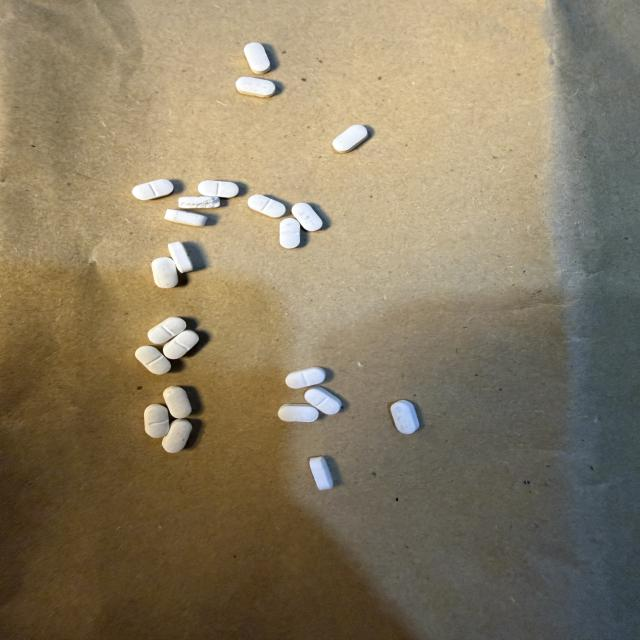pill: (163, 330, 199, 360), (148, 317, 186, 344), (135, 346, 171, 374), (162, 419, 191, 453), (305, 387, 341, 414), (391, 400, 419, 434), (333, 125, 368, 152), (163, 386, 191, 418), (132, 179, 173, 200), (144, 404, 169, 438), (292, 203, 322, 231), (285, 367, 325, 388), (248, 195, 285, 217), (152, 257, 178, 288), (244, 43, 270, 74), (236, 77, 275, 97), (168, 242, 193, 273), (310, 457, 333, 490), (198, 180, 238, 198), (278, 404, 318, 422), (165, 210, 207, 226), (279, 218, 300, 249), (179, 196, 220, 208)
